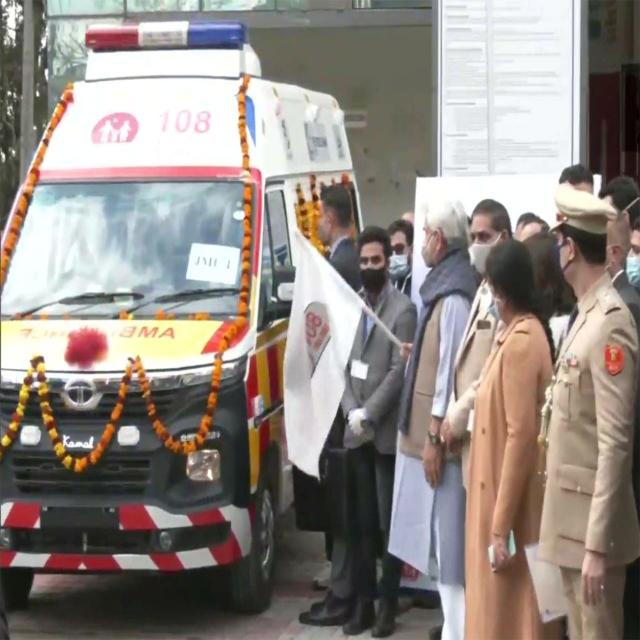emergency: (0, 21, 359, 612)
